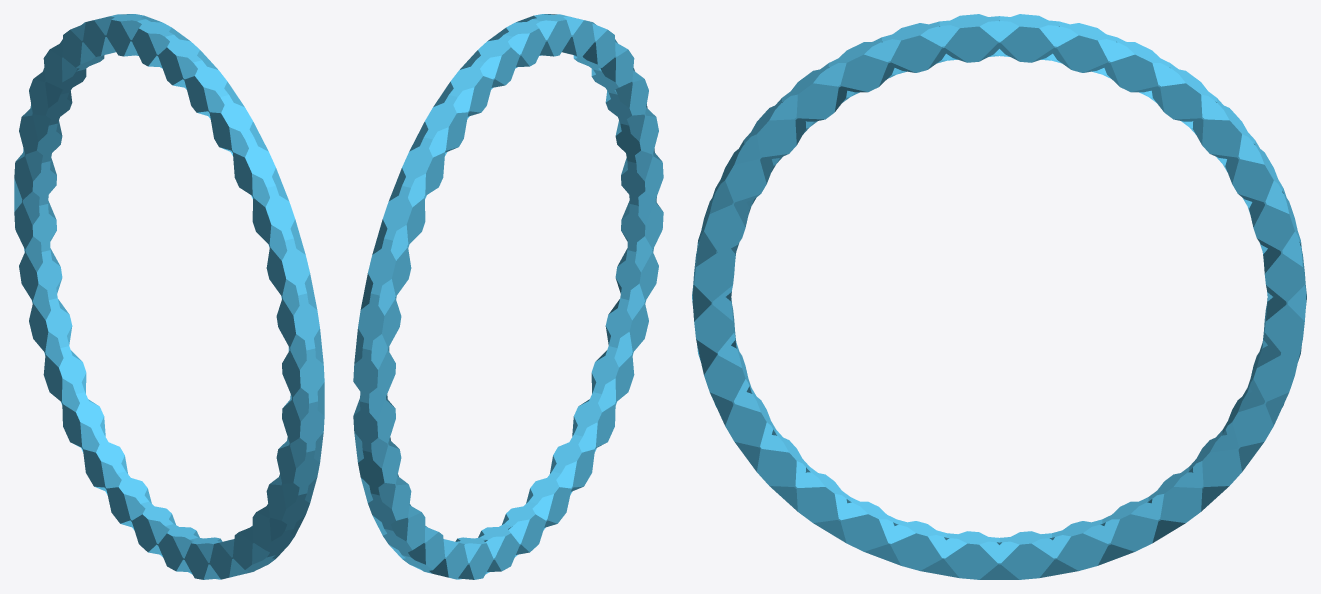
Rendered from ring.gltf.
3 renders of one model, left to right at view 1: azimuth 30°, elevation 25°; view 2: azimuth 150°, elevation 25°; view 3: azimuth 270°, elevation 25°, orthographic. The views are drawn at different scales.
Parts seen in each view (by area): view 1: Circle.001; view 2: Circle.001; view 3: Circle.001.
Boxes of the visible parts, x1=… form: Circle.001: x1=14, y1=14, x2=324, y2=579; Circle.001: x1=353, y1=14, x2=663, y2=579; Circle.001: x1=692, y1=14, x2=1306, y2=579.
Bounding box in the file's own units: 3.81 × 79.41 × 79.41.
1 material, 1 textured.
